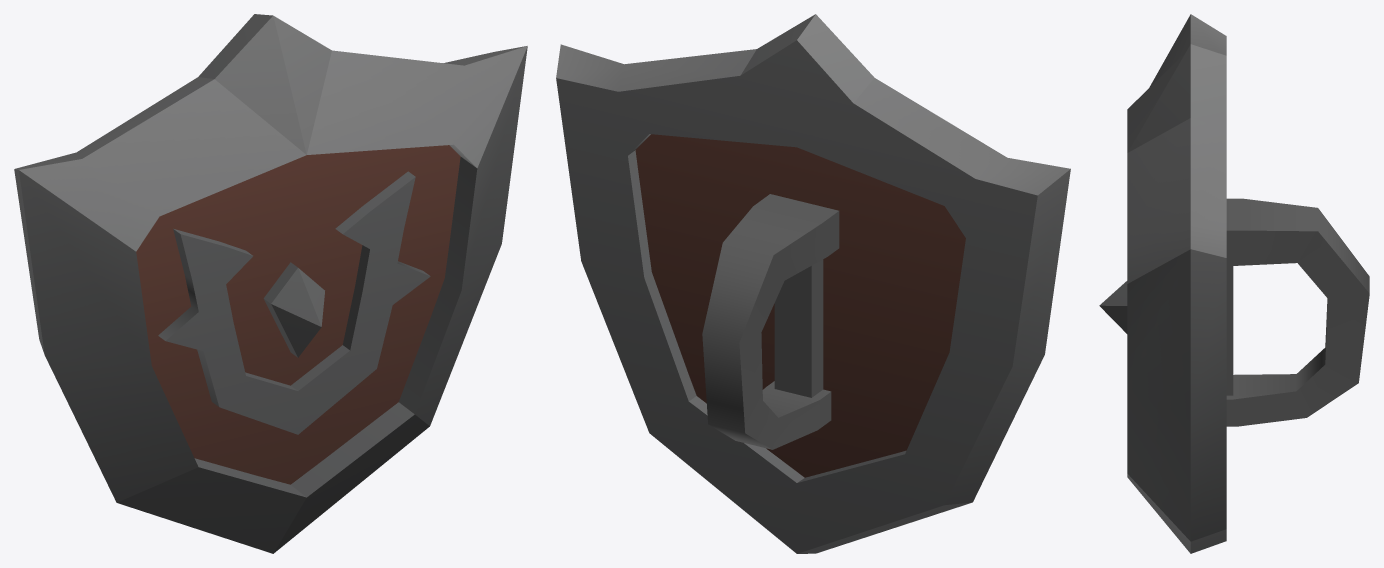
Rendered from Shield_LHand_10.fbx.
3 views of the same model, side by side, from view 1: azimuth 30°, elevation 25°; view 2: azimuth 150°, elevation 25°; view 3: azimuth 270°, elevation 25° (orthographic). The views are drawn at different scales.
Visible parts, largest first — view 1: Shield_LHand_10; view 2: Shield_LHand_10; view 3: Shield_LHand_10.
Part boxes in pixels (x1,y1,x2,y2): Shield_LHand_10: (14,14,527,553); Shield_LHand_10: (556,14,1070,553); Shield_LHand_10: (1099,14,1369,553).
Size of the model in its own units: 51.36 by 51.92 by 24.98.
